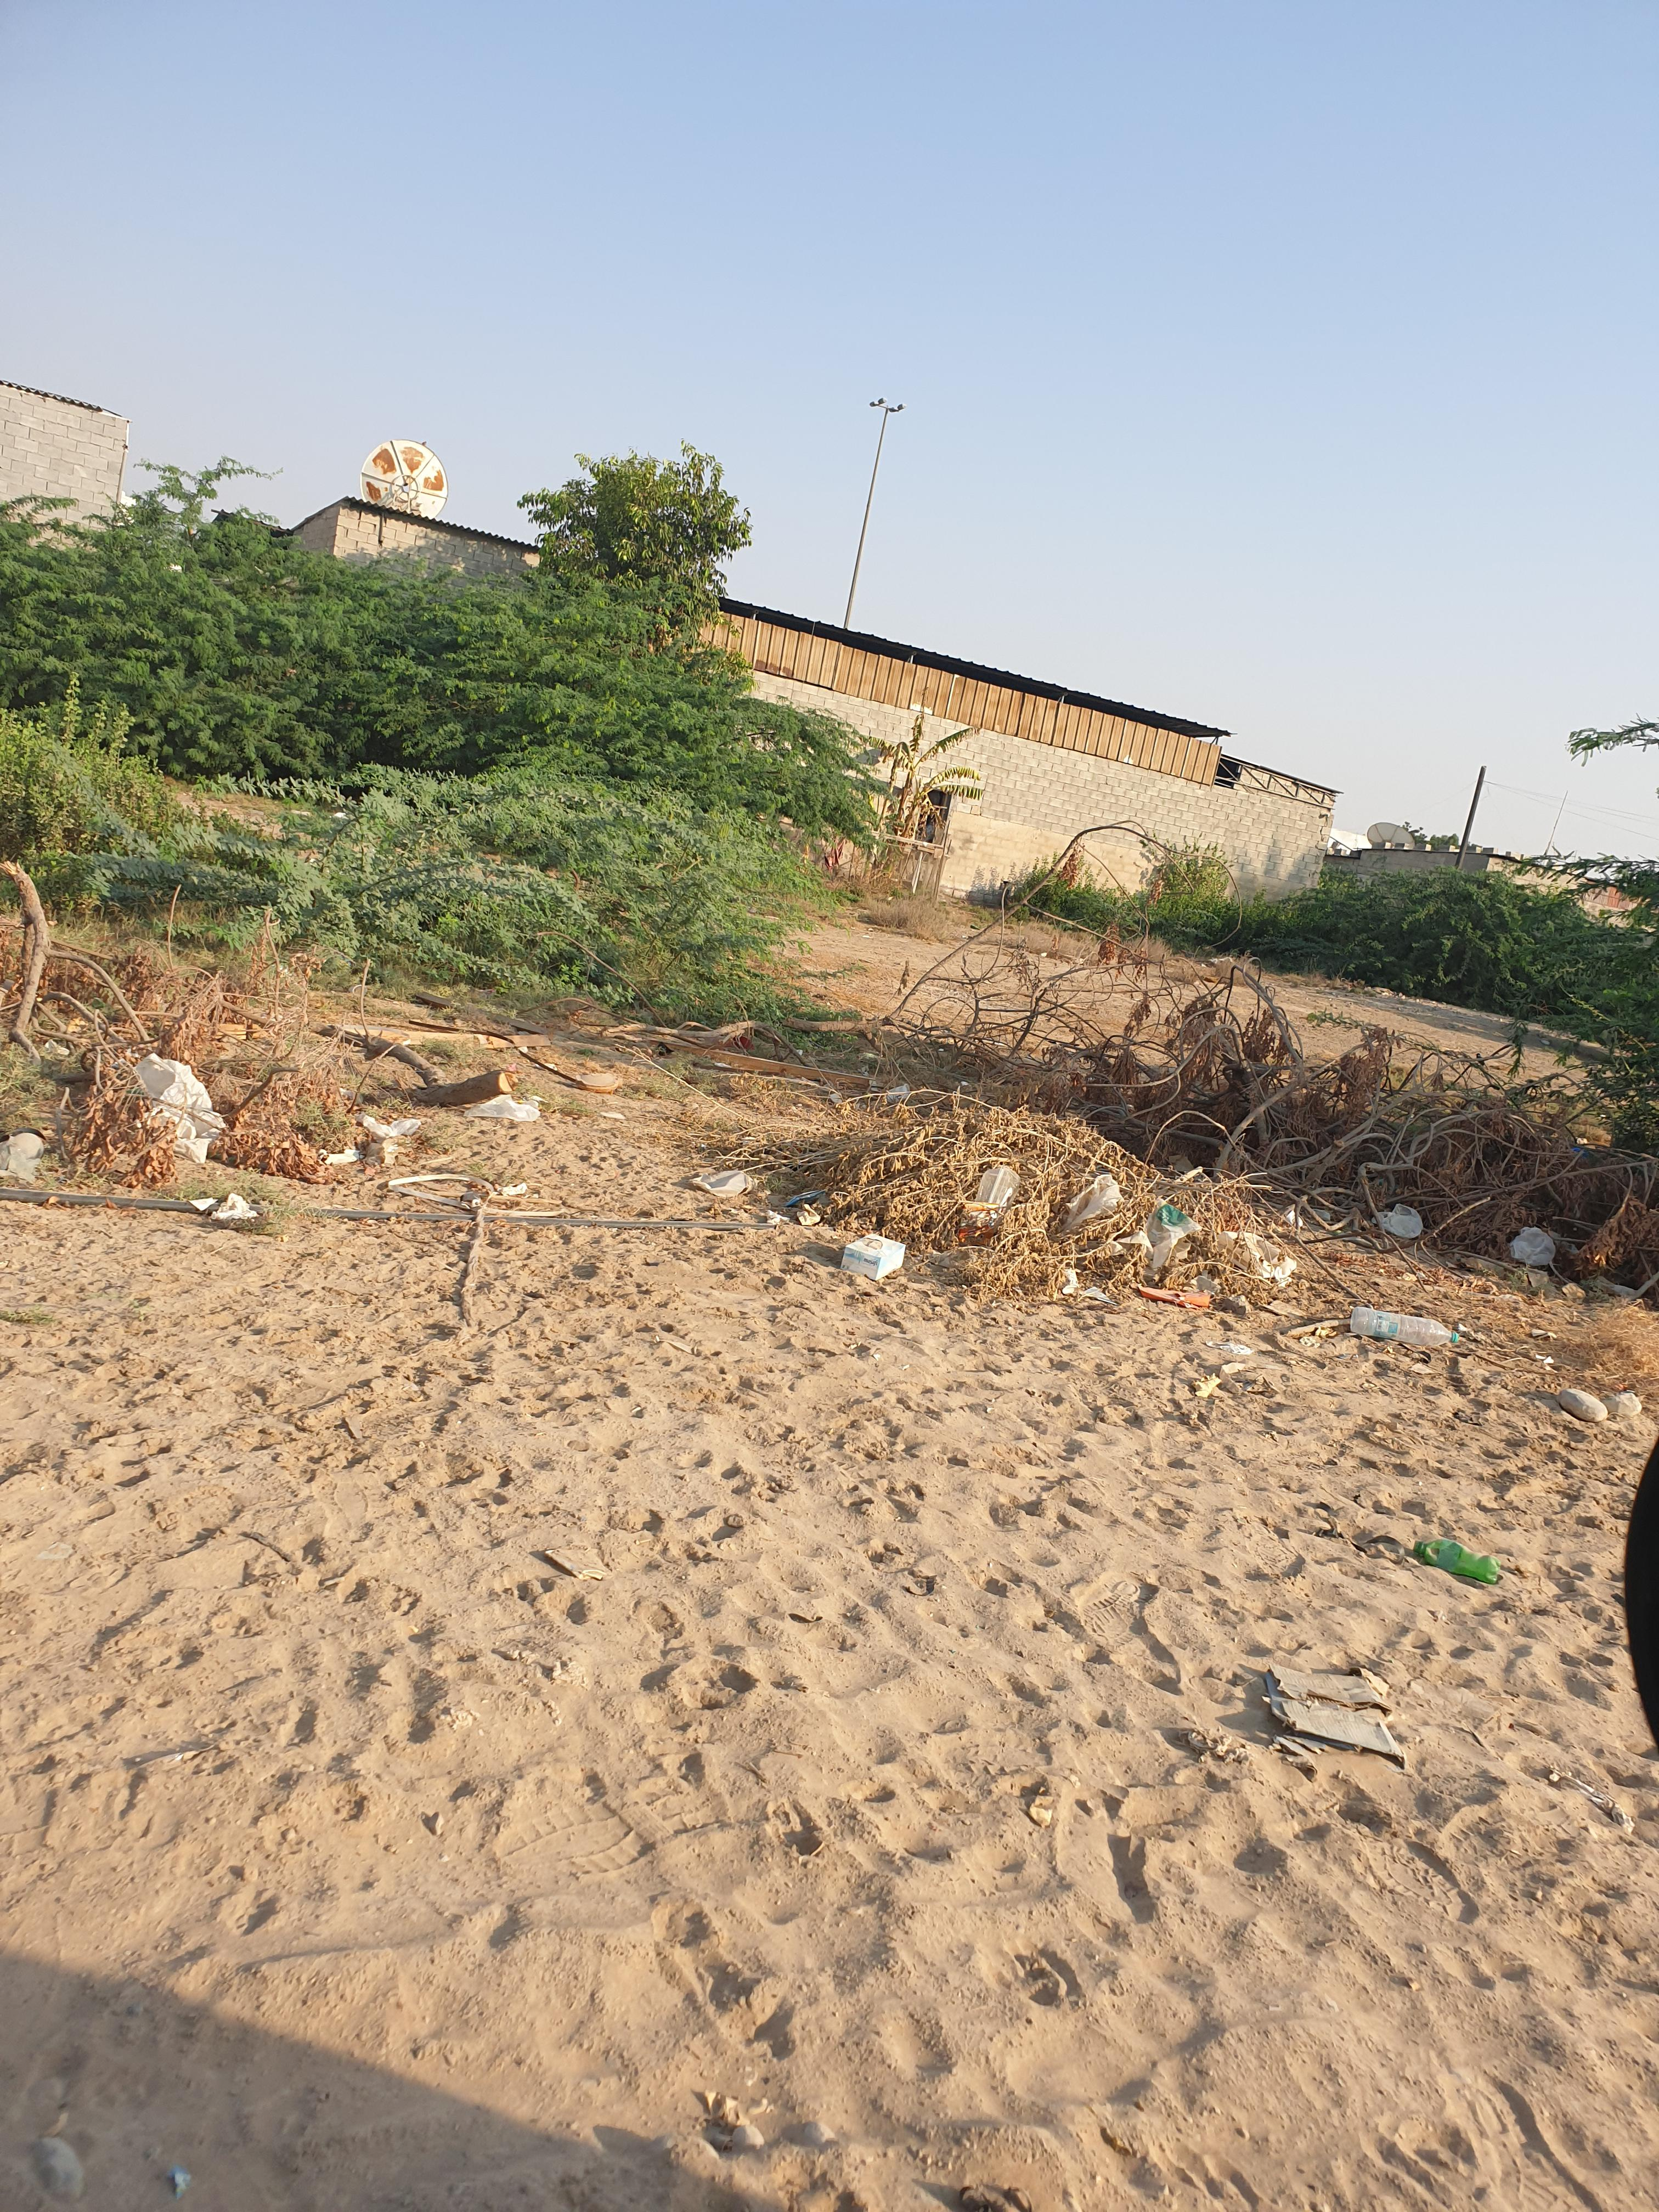fallen_trees: (758, 1035, 1307, 1395), (997, 949, 1490, 1301), (70, 946, 568, 1261)
uncollected_waste: (1244, 1620, 1441, 1799)
